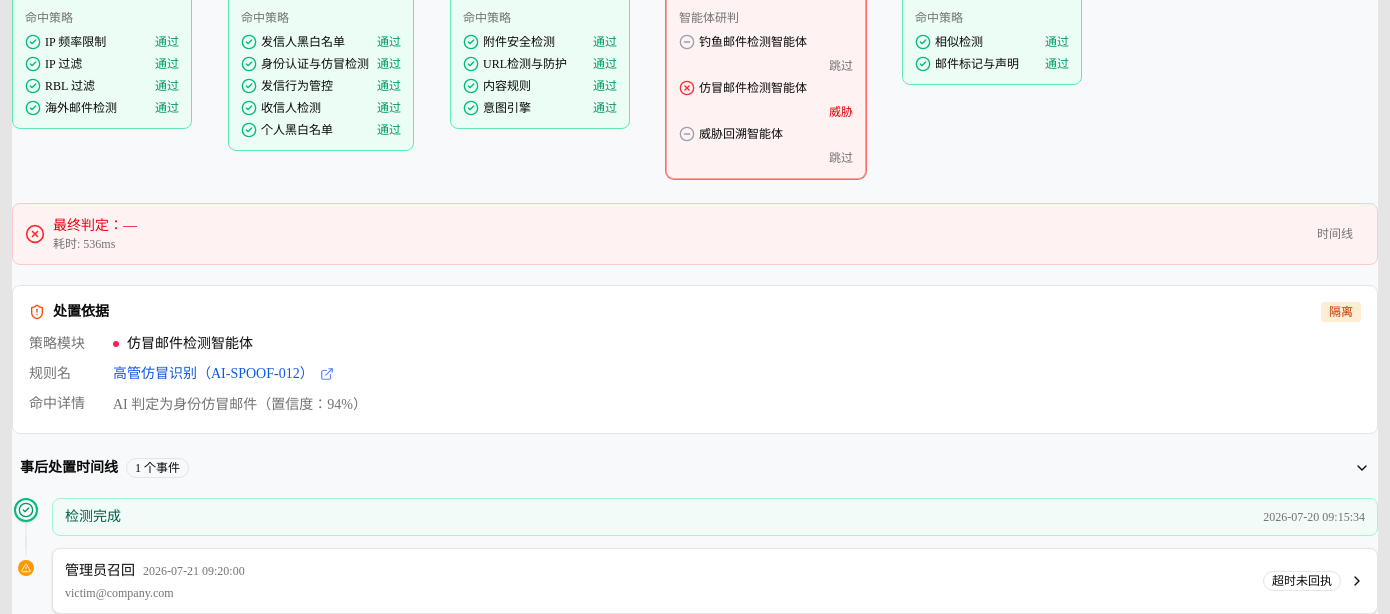
AnalysisSection (v2 spec alignment) › 召回超时补写后，时间线那一行折叠为一条并显示「超时未回执」
The image size is (1390, 614).
(page scrolled)
Click the button with test id "analysis-timeline-event-event-602": (100,570) [52,548,1378,613]
(page scrolled)
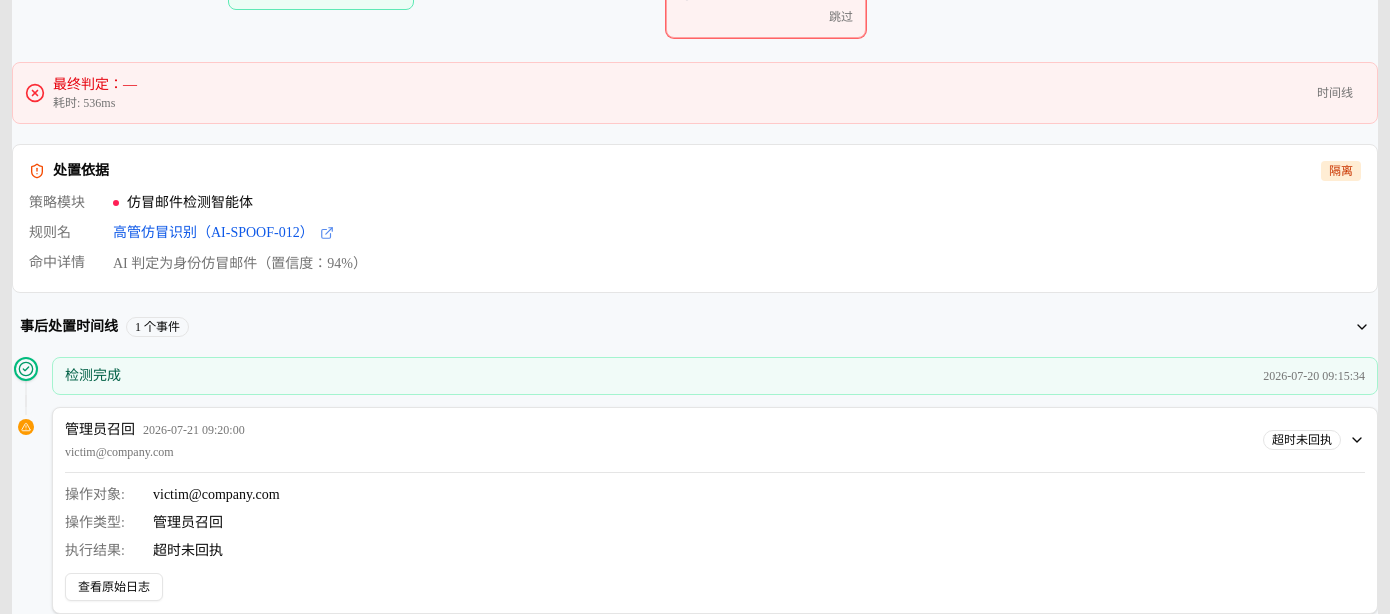
Expected: the element with test id "analysis-timeline-event-event-602-detail" shows "超时未回执", [153,543,223,558]
